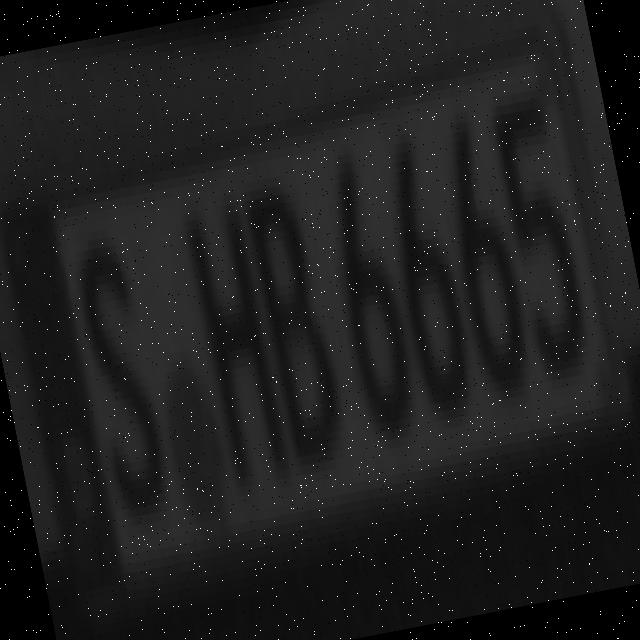EU: (2, 32, 617, 584)
